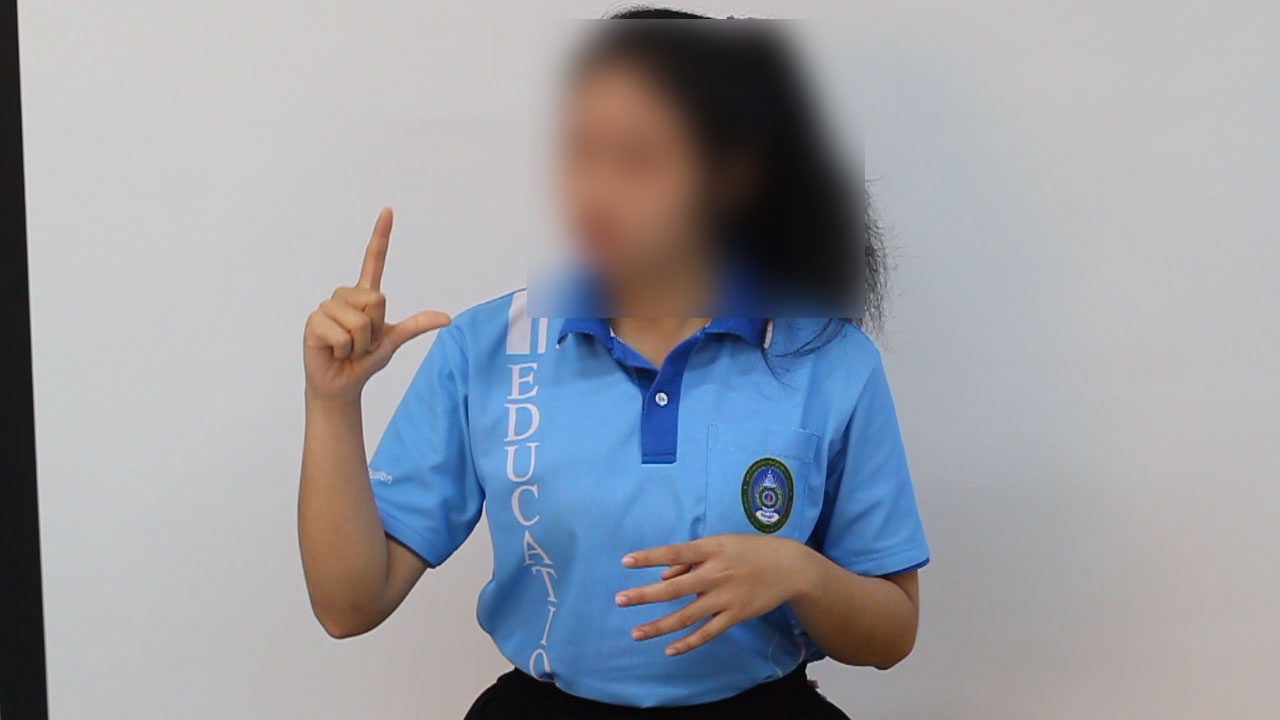lor: (273, 135, 477, 421)
